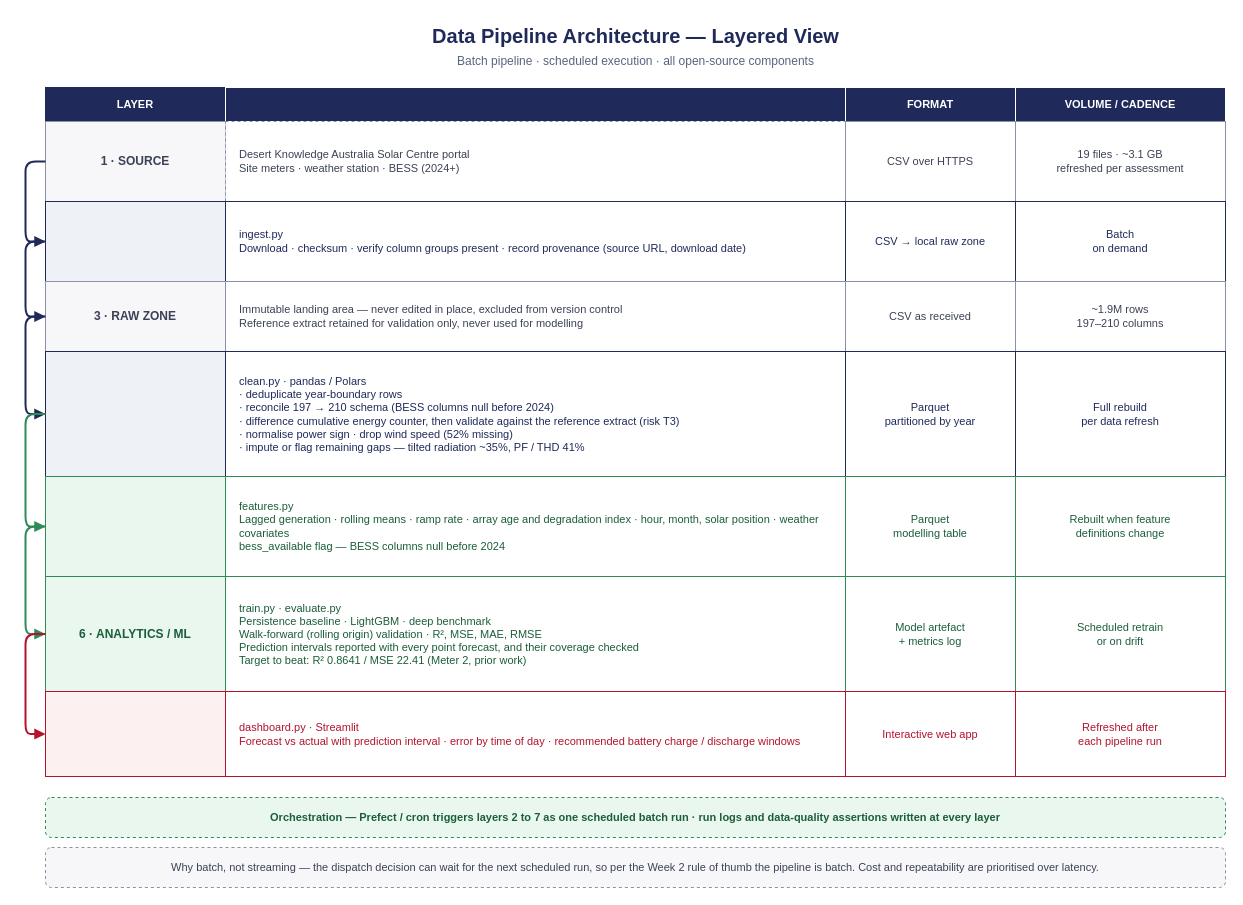
Image size: 1243x905. Some labels were removed from this diagram. The centre of each missing label's shape, as x and y in pixels:
2 · INGESTION: [135,241]
4 · PROCESSING: [135,413]
5 · FEATURE BUILD: [135,526]
7 · CONSUMPTION: [135,733]
COMPONENT AND OPERATION: [535,104]
